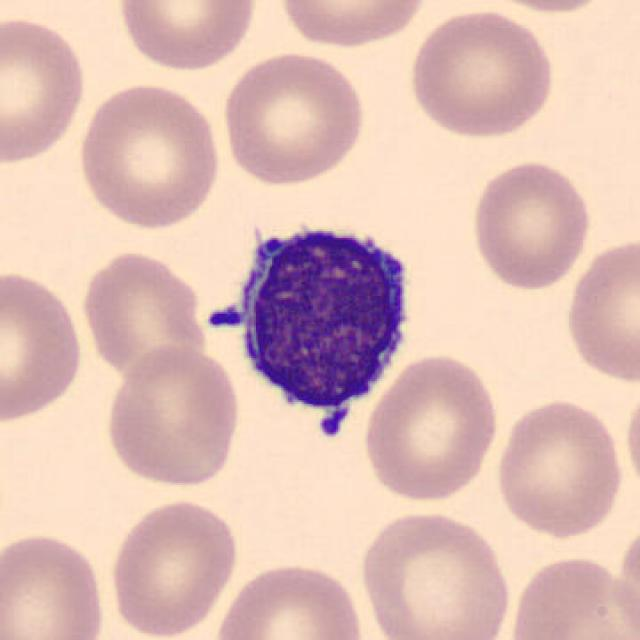Lymphocyte: (217, 208, 425, 453)
RBC: (73, 79, 224, 231), (359, 349, 501, 504), (217, 48, 370, 188), (356, 506, 514, 640), (102, 342, 244, 490), (404, 5, 558, 141), (490, 393, 628, 543), (105, 493, 242, 640), (76, 247, 210, 379), (466, 157, 596, 293), (0, 264, 87, 425), (0, 11, 89, 168), (212, 557, 370, 640), (0, 527, 110, 640), (560, 233, 638, 386), (503, 552, 637, 640), (112, 0, 261, 74), (274, 0, 432, 49), (613, 516, 639, 640), (474, 0, 620, 16), (622, 378, 640, 504)
